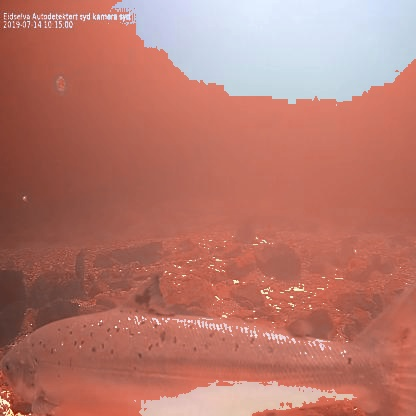salmon: (0, 272, 416, 416)
